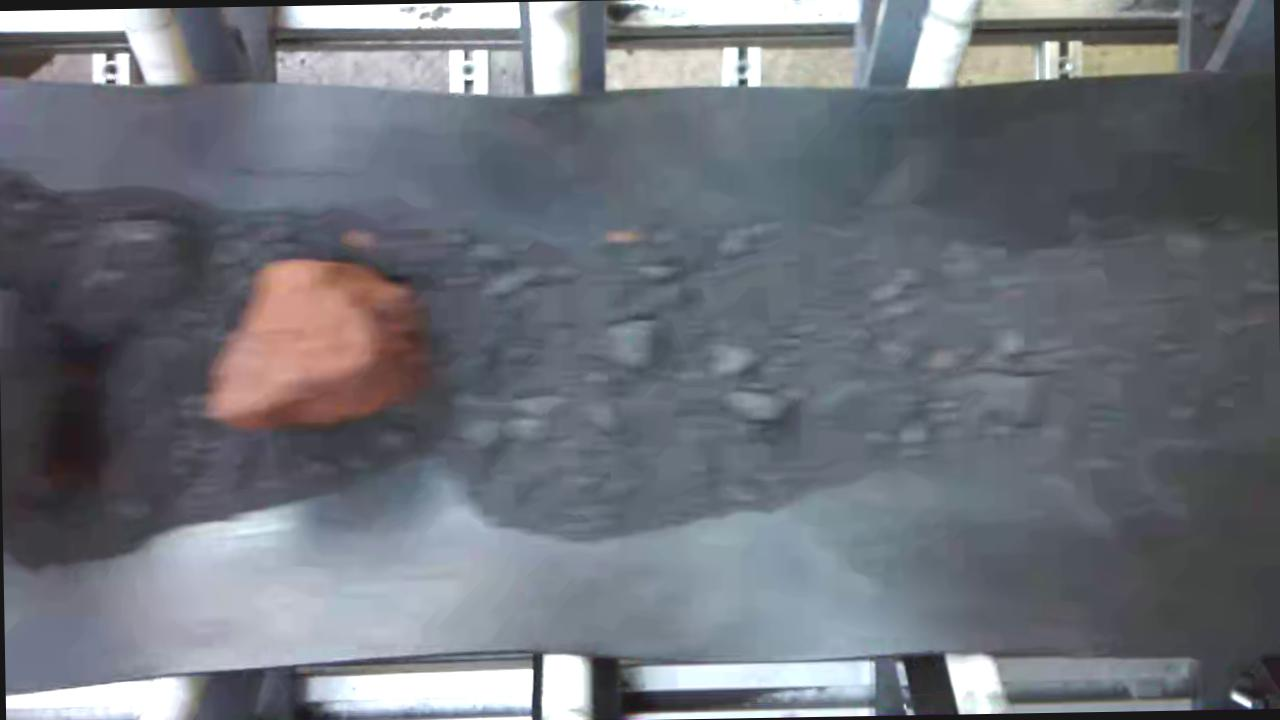conveyor: (0, 81, 1280, 662)
